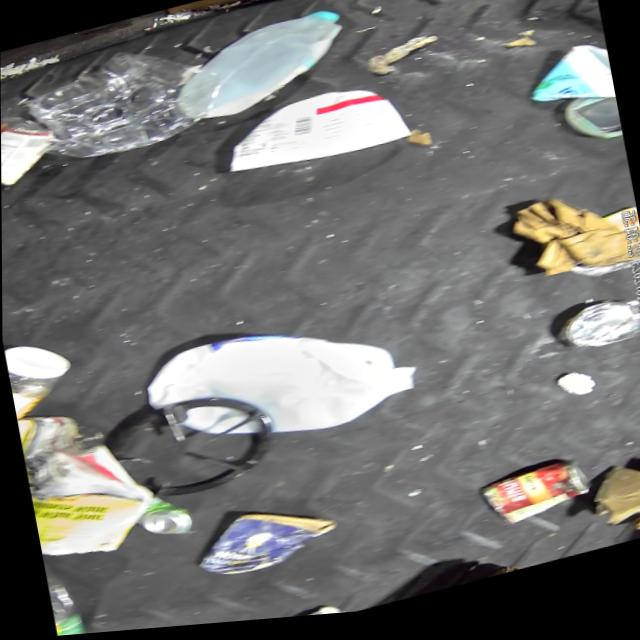can: (479, 462, 598, 538), (547, 299, 640, 378), (1, 102, 67, 193), (134, 494, 201, 548)
milk_jug: (124, 293, 426, 479), (161, 4, 353, 138)
